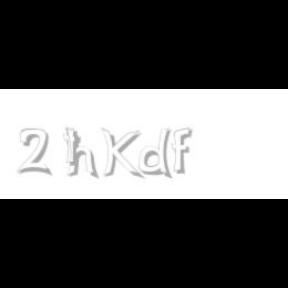2: (16, 128, 50, 176)
K: (101, 128, 141, 180)
d: (138, 128, 176, 180)
f: (172, 128, 196, 174)
h: (65, 128, 100, 180)
t: (63, 128, 85, 168)
